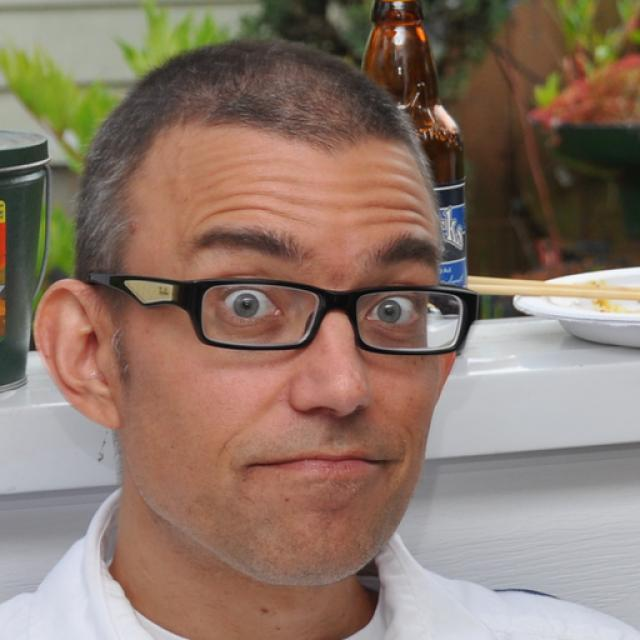surprise: (122, 102, 444, 591)
